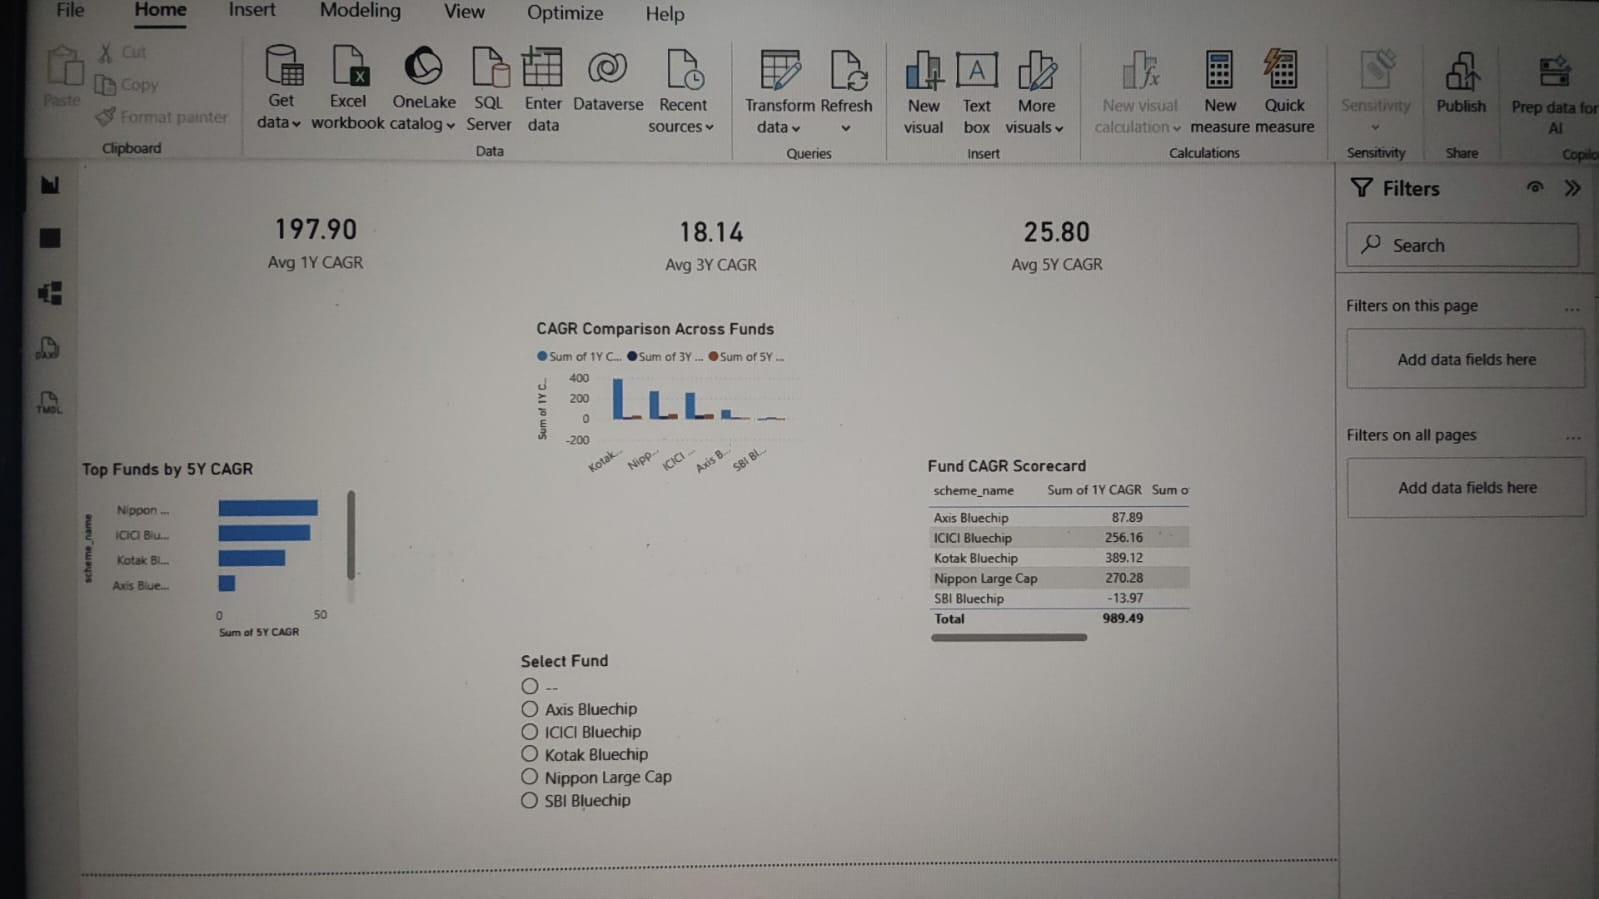

The page's visual inventory and layout, read from the dashboard file:
{"tool":"powerbi","page":{"name":"CAGR & Growth Analytics","canvas":[1280,720],"ordinal":3},"visuals":[{"type":"card","fields":{"Values":["cagr_comparison.Avg 1Y CAGR"]},"box":[96.1,0,279.9,160.5],"z":0},{"type":"card","fields":{"Values":["cagr_comparison.Avg 3Y CAGR"]},"box":[481.6,0,306,160.5],"z":1000},{"type":"card","fields":{"Values":["cagr_comparison.Avg 5Y CAGR"]},"box":[809.6,0,366.4,160.5],"z":2000},{"type":"clusteredColumnChart","title":"CAGR Comparison Across Funds","fields":{"Category":["cagr_comparison.scheme_name"],"Y":["Sum(cagr_comparison.1Y CAGR)","Sum(cagr_comparison.3Y CAGR)","Sum(cagr_comparison.5Y CAGR)"]},"box":[323,161,280,172],"z":3000},{"type":"barChart","title":"Top Funds by 5Y CAGR","fields":{"Category":["cagr_comparison.scheme_name"],"Y":["Sum(cagr_comparison.5Y CAGR)"]},"box":[0,303.3,279.9,186.6],"z":4000},{"type":"tableEx","title":"Fund CAGR Scorecard","fields":{"Values":["cagr_comparison.scheme_name","Sum(cagr_comparison.1Y CAGR)","Sum(cagr_comparison.3Y CAGR)","Sum(cagr_comparison.5Y CAGR)"]},"box":[635,334,279,198],"z":5000},{"type":"listSlicer","title":"Select Fund","fields":{"Values":["cagr_comparison.scheme_name"]},"box":[323,490,280,219],"z":6000}]}

Visuals, with their boxes on the page's 1280x720 design canvas (x1, y1, x2, y2). These are canvas units, not pixel positions in the 1599x899 screenshot, which may show the page scaled, cropped or inside an application window:
card - cagr_comparison.Avg 1Y CAGR: pyautogui.locateOnScreen(96, 0, 376, 160)
card - cagr_comparison.Avg 3Y CAGR: pyautogui.locateOnScreen(482, 0, 788, 160)
card - cagr_comparison.Avg 5Y CAGR: pyautogui.locateOnScreen(810, 0, 1176, 160)
"CAGR Comparison Across Funds" clusteredColumnChart: pyautogui.locateOnScreen(323, 161, 603, 333)
"Top Funds by 5Y CAGR" barChart: pyautogui.locateOnScreen(0, 303, 280, 490)
"Fund CAGR Scorecard" tableEx: pyautogui.locateOnScreen(635, 334, 914, 532)
"Select Fund" listSlicer: pyautogui.locateOnScreen(323, 490, 603, 709)
